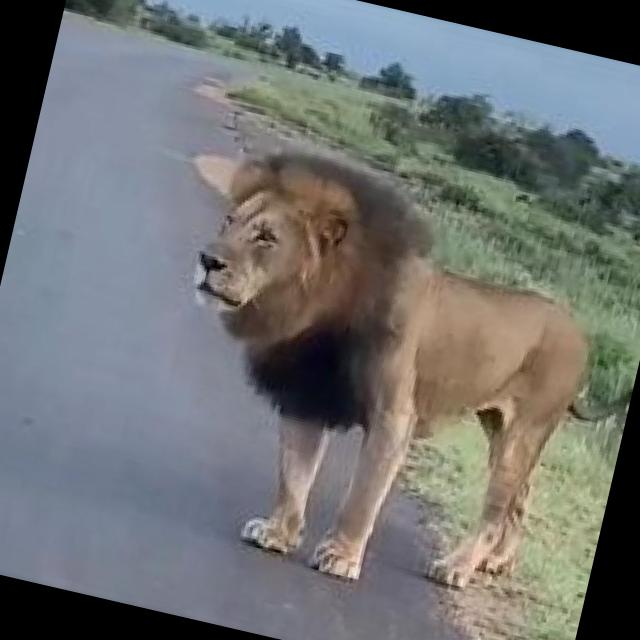lions: (105, 41, 640, 640)
